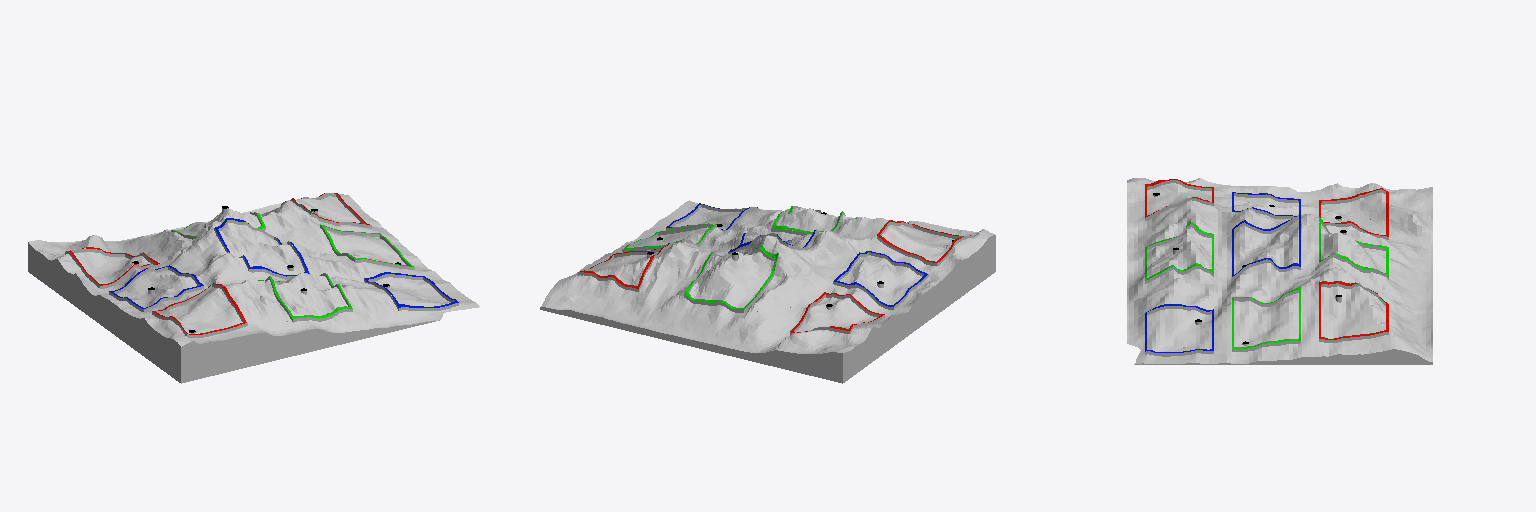
File: teton_markup.obj
3 renders of one model, left to right at view 1: azimuth 30°, elevation 25°; view 2: azimuth 150°, elevation 25°; view 3: azimuth 270°, elevation 25°, orthographic.
Parts seen in each view (by area): view 1: Grand_Teton, RegionFrames.007, RegionFrames.009, RegionFrames.004, RegionFrames.006, RegionFrames.001, RegionFrames.005, RegionFrames.008, RegionFrames.003; view 2: Grand_Teton, RegionFrames.004, RegionFrames.002, RegionFrames.003, RegionFrames.007, RegionFrames.001, RegionFrames.006; view 3: Grand_Teton, RegionFrames.003, RegionFrames.006, RegionFrames.005, RegionFrames.009, RegionFrames.008, RegionFrames.001, RegionFrames.002, RegionFrames.007, RegionFrames.004.
Part boxes in pixels (x1,y1,x2,y2): Grand_Teton: (28,194,479,383); RegionFrames.007: (152,283,247,337); RegionFrames.009: (364,272,458,310); RegionFrames.004: (109,265,203,311); RegionFrames.006: (320,224,414,269); RegionFrames.001: (65,247,159,288); RegionFrames.005: (214,218,309,279); RegionFrames.008: (258,273,352,322); RegionFrames.003: (281,193,371,228); Grand_Teton: (540,200,995,383); RegionFrames.004: (833,251,928,309); RegionFrames.002: (684,246,778,312); RegionFrames.003: (578,242,673,291); RegionFrames.007: (877,220,971,265); RegionFrames.001: (790,292,884,334); RegionFrames.006: (622,223,716,251); Grand_Teton: (1127,178,1432,364); RegionFrames.003: (1319,281,1388,342); RegionFrames.006: (1232,287,1300,351); RegionFrames.005: (1232,212,1300,279); RegionFrames.009: (1145,304,1213,356); RegionFrames.008: (1145,222,1213,283); RegionFrames.001: (1319,188,1388,239); RegionFrames.002: (1319,217,1388,279); RegionFrames.007: (1145,179,1213,220); RegionFrames.004: (1232,192,1300,218).
Size of the model in its own units: 100 by 22.01 by 87.67.